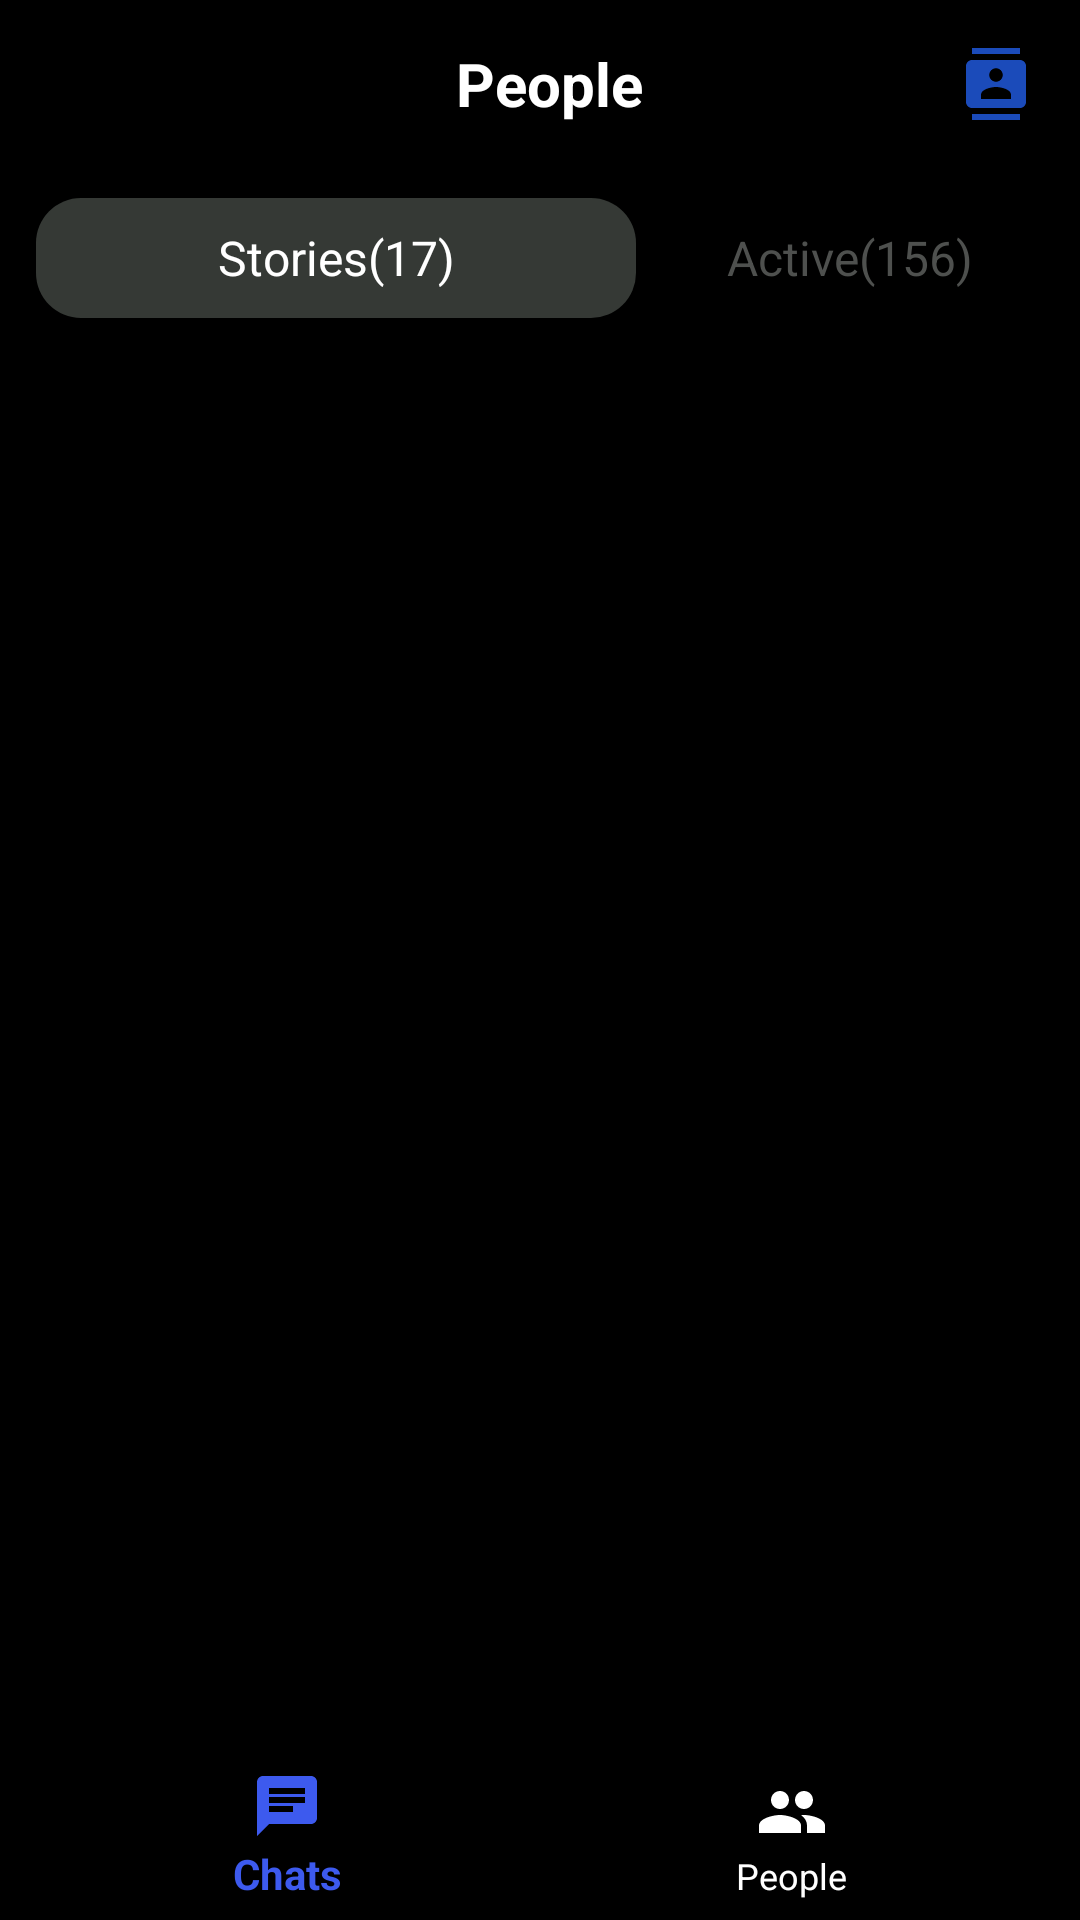

Where icons sit on this 1080x1920 app screen, as box=[x1, y1, x2, y2]:
contacts: box=[966, 48, 1026, 120]
